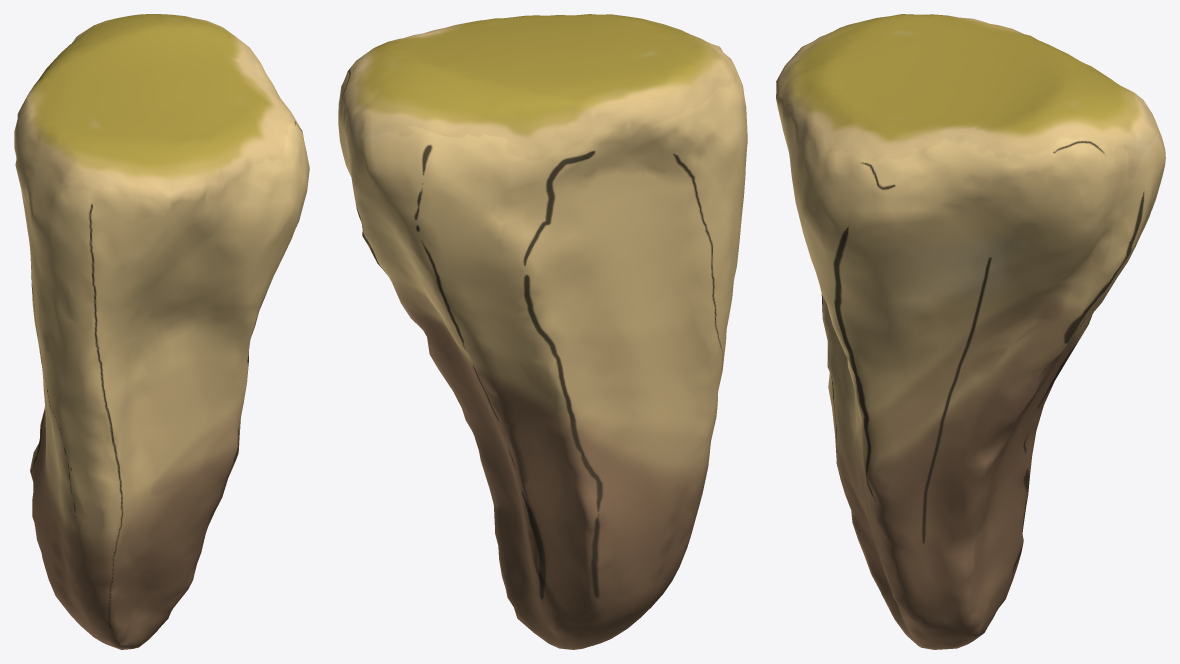
File: BaseIsland__2.fbx
3 renders of one model, left to right at view 1: azimuth 30°, elevation 25°; view 2: azimuth 150°, elevation 25°; view 3: azimuth 270°, elevation 25°, orthographic. The views are drawn at different scales.
Parts seen in each view (by area): view 1: BaseIsland_2; view 2: BaseIsland_2; view 3: BaseIsland_2.
Part boxes in pixels (box(x1,y1,x2,y2)): BaseIsland_2: box(14, 14, 309, 649); BaseIsland_2: box(338, 14, 747, 649); BaseIsland_2: box(776, 14, 1165, 649).
Size of the model in its own units: 2041 by 3871 by 2277.
1 material, 1 textured.
